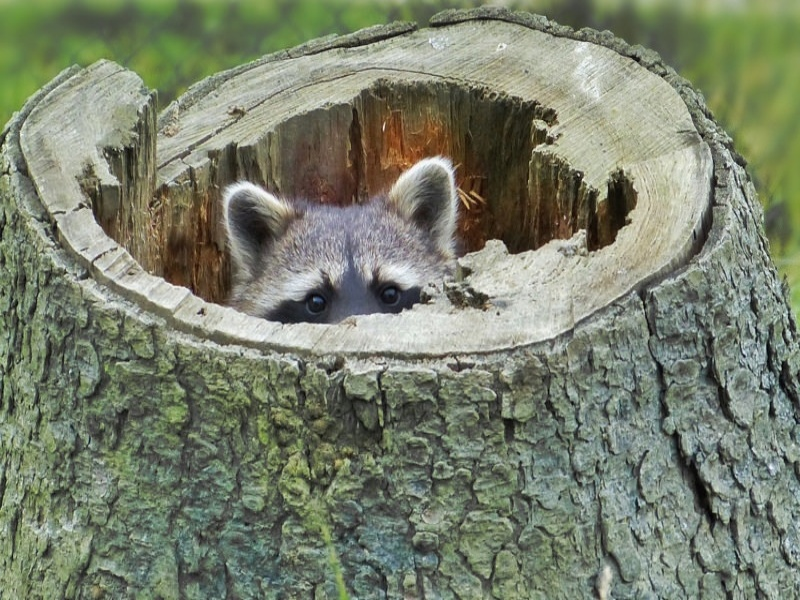raccoon: (214, 154, 469, 335)
